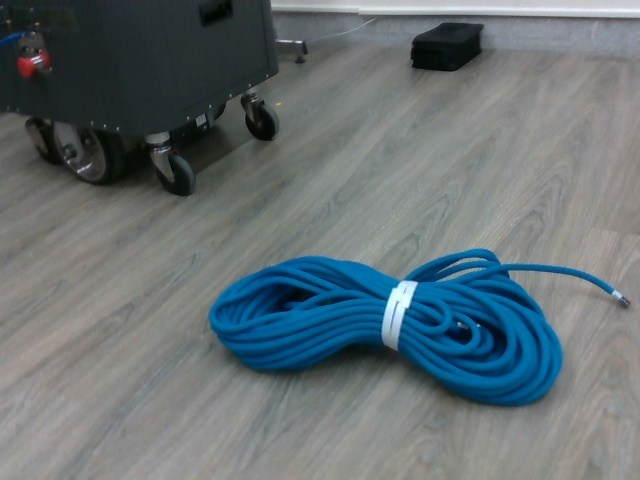rope: (210, 251, 567, 416)
